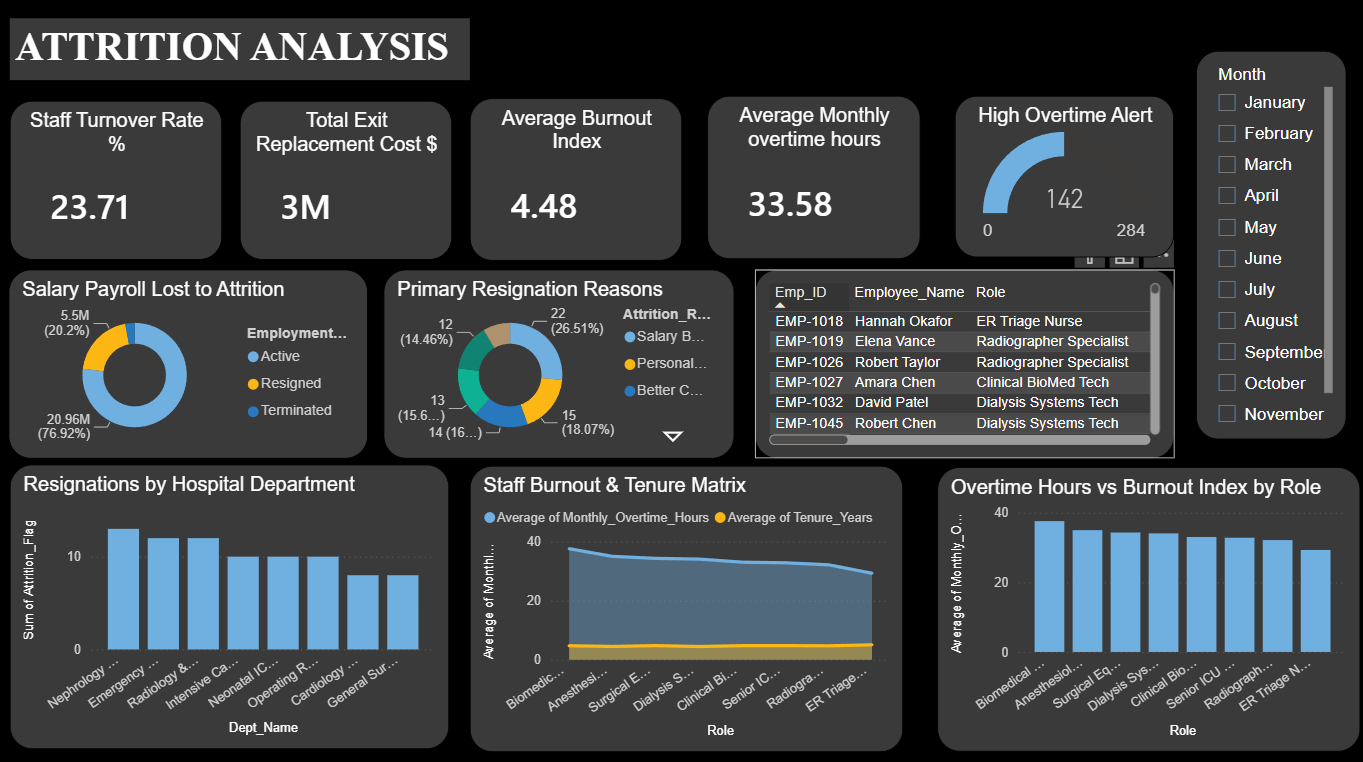

The page's visual inventory and layout, read from the dashboard file:
{"tool":"powerbi","page":{"name":"Page 1","canvas":[1280,720],"ordinal":0},"visuals":[{"type":"textbox","box":[12.3,24.7,428.1,57.6],"z":0},{"type":"cardVisual","title":"Staff Turnover Rate %","fields":{"Data":["Multiply(Divide(Sum(Fact_Staff_Workforce.Attrition_Flag), Count(Fact_Staff_Workforce.Emp_ID)), const)"]},"box":[12.3,101.5,197.6,148.2],"z":1000},{"type":"cardVisual","title":"Total Exit Replacement Cost $","fields":{"Data":["Dim_Departments.kotal Exit Replacement Cost"]},"box":[226.4,101.5,197.6,148.2],"z":2000},{"type":"cardVisual","title":"Average Burnout Index","fields":{"Data":["Dim_Departments.Avg Burnout Index"]},"box":[440.5,98.8,197.6,150.9],"z":3000},{"type":"cardVisual","title":"Average Monthly overtime hours","fields":{"Data":["Dim_Departments.Avg Monthly Overtime Hours"]},"box":[662,96,198,152],"z":4000},{"type":"donutChart","title":"Primary Resignation Reasons","fields":{"Category":["Healthcare_Master_Flat.Attrition_Reason"],"Y":["Count(Healthcare_Master_Flat.Emp_ID)"]},"box":[360,258,326,176],"z":5000},{"type":"clusteredColumnChart","title":"Resignations by Hospital Department","fields":{"Y":["Sum(Healthcare_Master_Flat.Attrition_Flag)"],"Category":["Dim_Departments.Dept_Name"]},"box":[12.3,439.1,408.9,264.8],"z":6000},{"type":"clusteredColumnChart","title":"Overtime Hours vs Burnout Index by Role","fields":{"Category":["Fact_Staff_Workforce.Role"],"Y":["Avg(Fact_Staff_Workforce.Monthly_Overtime_Hours)"]},"box":[875.5,441.9,393.8,264.8],"z":7000},{"type":"tableEx","fields":{"Values":["Fact_Staff_Workforce.Emp_ID","Fact_Staff_Workforce.Employee_Name","Fact_Staff_Workforce.Role","Fact_Staff_Workforce.Monthly_Overtime_Hours","Fact_Staff_Workforce.Department_ID","Fact_Staff_Workforce.Hire_Date","Fact_Staff_Workforce.Tenure_Years","Fact_Staff_Workforce.Employment_Status","Fact_Staff_Workforce.Termination_Date","Fact_Staff_Workforce.Attrition_Flag","Fact_Staff_Workforce.Attrition_Reason","Fact_Staff_Workforce.Salary_USD"]},"box":[706,258,390,176],"z":8000},{"type":"gauge","title":"High Overtime Alert ","fields":{"Y":["Count(Fact_Staff_Workforce.Emp_ID)"]},"box":[892,96,204,150],"z":9000},{"type":"areaChart","title":"Staff Burnout & Tenure Matrix ","fields":{"Category":["Fact_Staff_Workforce.Role"],"Y":["Avg(Fact_Staff_Workforce.Monthly_Overtime_Hours)","Avg(Fact_Staff_Workforce.Tenure_Years)"]},"box":[440.5,440.5,403.4,266.2],"z":10000},{"type":"donutChart","title":"Salary Payroll Lost to Attrition","fields":{"Category":["Fact_Staff_Workforce.Employment_Status"],"Y":["Sum(Fact_Staff_Workforce.Salary_USD)"]},"box":[12,258,334,176],"z":11000},{"type":"slicer","fields":{"Values":["Healthcare_Master_Flat.Hire_Date.Variation.Date Hierarchy.Month"]},"box":[1115.7,54.3,140,361.4],"z":12000}]}

Visuals, with their boxes in screenshot pixels (x1, y1, x2, y2), scaled from the page's 1280x720 canvas onto the 1363x762 screenshot:
textbox: (x1=13, y1=26, x2=469, y2=87)
"Staff Turnover Rate %" cardVisual: (x1=13, y1=107, x2=224, y2=264)
"Total Exit Replacement Cost $" cardVisual: (x1=241, y1=107, x2=451, y2=264)
"Average Burnout Index" cardVisual: (x1=469, y1=105, x2=679, y2=264)
"Average Monthly overtime hours" cardVisual: (x1=705, y1=102, x2=916, y2=262)
"Primary Resignation Reasons" donutChart: (x1=383, y1=273, x2=730, y2=459)
"Resignations by Hospital Department" clusteredColumnChart: (x1=13, y1=465, x2=449, y2=745)
"Overtime Hours vs Burnout Index by Role" clusteredColumnChart: (x1=932, y1=468, x2=1352, y2=748)
tableEx - Fact_Staff_Workforce.Emp_ID x Fact_Staff_Workforce.Employee_Name: (x1=752, y1=273, x2=1167, y2=459)
"High Overtime Alert " gauge: (x1=950, y1=102, x2=1167, y2=260)
"Staff Burnout & Tenure Matrix " areaChart: (x1=469, y1=466, x2=899, y2=748)
"Salary Payroll Lost to Attrition" donutChart: (x1=13, y1=273, x2=368, y2=459)
slicer - Healthcare_Master_Flat.Hire_Date.Variation.Date Hierarchy.Month: (x1=1188, y1=57, x2=1337, y2=440)
